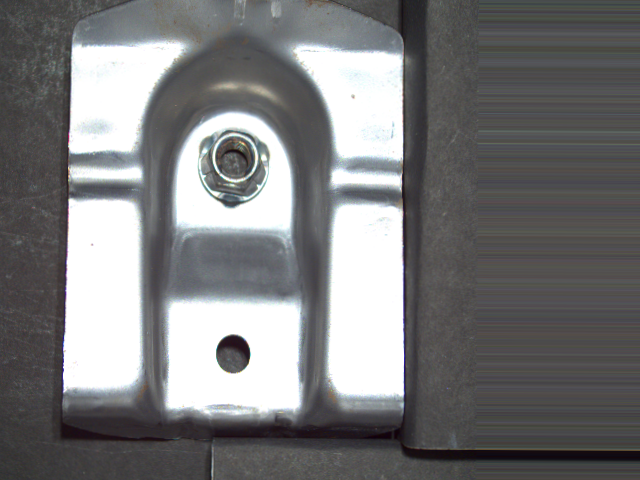good: (195, 124, 277, 209)
